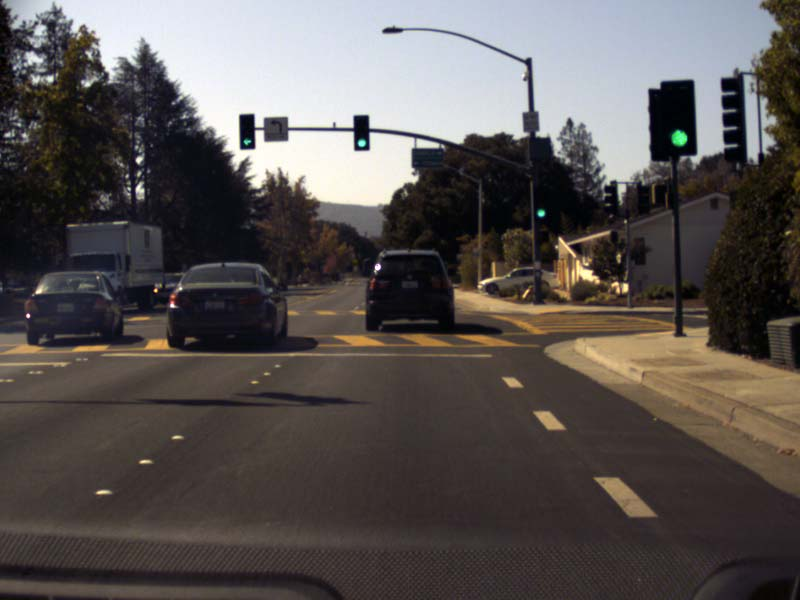Green: (660, 79, 695, 155), (353, 115, 369, 150), (239, 114, 254, 149), (535, 191, 548, 221)
